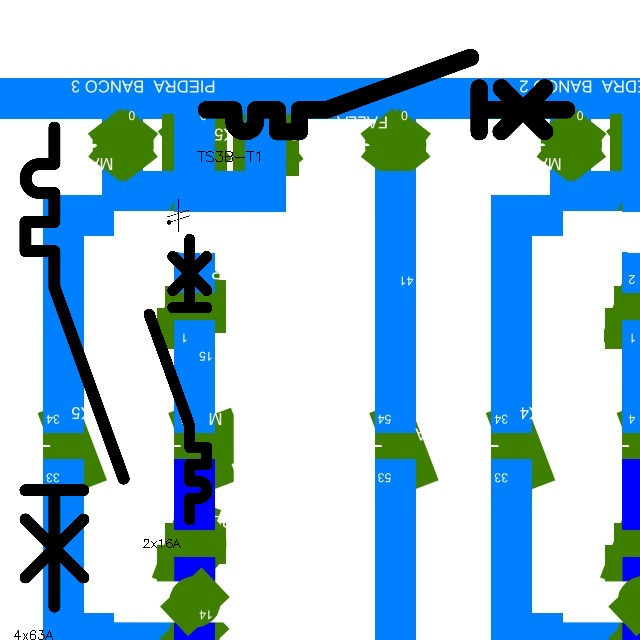interruptor_termomagnetico: (13, 115, 136, 619), (197, 48, 576, 141), (142, 232, 214, 526)
